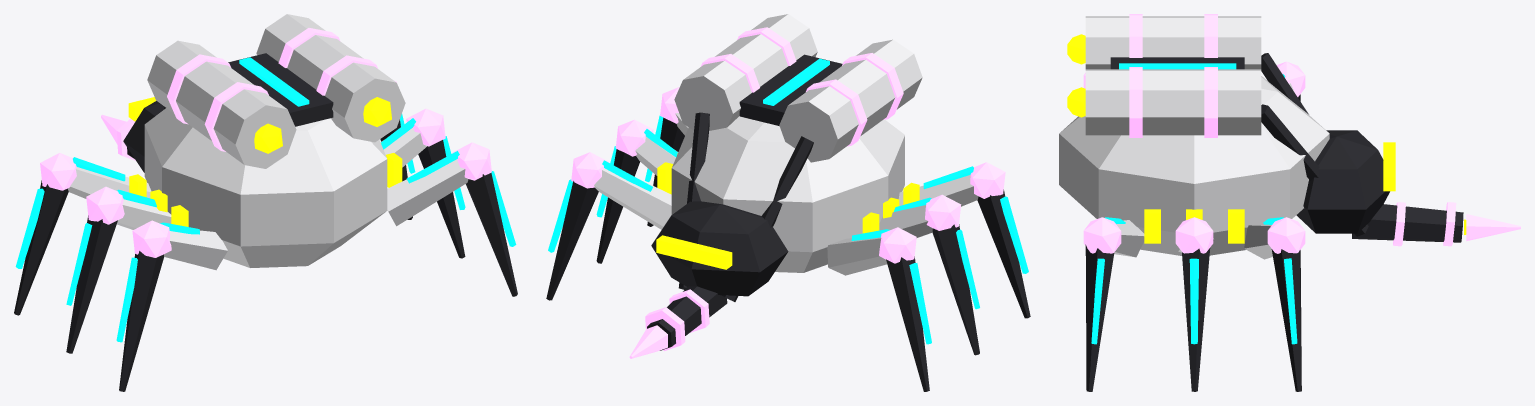
File: Burner.fbx
The picture shows the model from 3 angles, left to right: view 1: azimuth 30°, elevation 25°; view 2: azimuth 150°, elevation 25°; view 3: azimuth 270°, elevation 25°; orthographic projection. The views are drawn at different scales.
Visible parts, largest first — view 1: Burner_Body, Burner_TankR, Burner_TankL, Burner_LegL2_Upper, Burner_ArmorPlate, Burner_LegR2_Lower, Burner_LegR1_Lower, Burner_LegL2_Lower, Burner_LegR0_Lower, Burner_LegR2_Upper, Burner_LegL1_Lower, Burner_LegR2_Knee (+21 smaller); view 2: Burner_Body, Burner_TankR, Burner_Head, Burner_TankL, Burner_ArmorPlate, Burner_LegL0_Upper, Burner_LegR0_Lower, Burner_LegR1_Lower, Burner_LegL0_Lower, Burner_LegR2_Lower, Burner_LegR0_Upper, Burner_Nozzle (+27 smaller); view 3: Burner_Body, Burner_TankL, Burner_TankR, Burner_Head, Burner_Nozzle, Burner_LegL2_Lower, Burner_LegL0_Lower, Burner_LegL1_Lower, Burner_HoseL, Burner_LegL0_Knee, Burner_LegL1_Knee, Burner_LegL2_Knee (+21 smaller).
Boxes of the visible parts, bbox=[...] form: Burner_Body: bbox=[144, 108, 387, 267]; Burner_TankR: bbox=[147, 40, 296, 168]; Burner_TankL: bbox=[256, 14, 405, 142]; Burner_LegL2_Upper: bbox=[387, 159, 468, 226]; Burner_ArmorPlate: bbox=[228, 53, 333, 126]; Burner_LegR2_Lower: bbox=[119, 251, 163, 391]; Burner_LegR1_Lower: bbox=[66, 215, 117, 353]; Burner_LegL2_Lower: bbox=[466, 173, 517, 296]; Burner_LegR0_Lower: bbox=[14, 180, 68, 315]; Burner_LegR2_Upper: bbox=[164, 230, 227, 270]; Burner_LegL1_Lower: bbox=[418, 140, 465, 258]; Burner_LegR2_Knee: bbox=[132, 220, 171, 257]; Burner_Body: bbox=[671, 116, 904, 272]; Burner_TankR: bbox=[779, 39, 922, 162]; Burner_Head: bbox=[651, 201, 788, 296]; Burner_TankL: bbox=[674, 14, 817, 130]; Burner_ArmorPlate: bbox=[739, 54, 842, 125]; Burner_LegL0_Upper: bbox=[594, 168, 671, 229]; Burner_LegR0_Lower: bbox=[886, 256, 929, 391]; Burner_LegR1_Lower: bbox=[932, 224, 979, 355]; Burner_LegL0_Lower: bbox=[546, 181, 598, 300]; Burner_LegR2_Lower: bbox=[977, 189, 1030, 318]; Burner_LegR0_Upper: bbox=[827, 237, 887, 275]; Burner_Nozzle: bbox=[647, 286, 727, 350]; Burner_Body: bbox=[1059, 76, 1329, 255]; Burner_TankL: bbox=[1085, 69, 1261, 135]; Burner_TankR: bbox=[1085, 16, 1261, 69]; Burner_Head: bbox=[1296, 130, 1389, 233]; Burner_Nozzle: bbox=[1352, 204, 1463, 242]; Burner_LegL2_Lower: bbox=[1085, 244, 1114, 391]; Burner_LegL0_Lower: bbox=[1271, 249, 1301, 391]; Burner_LegL1_Lower: bbox=[1182, 248, 1210, 391]; Burner_HoseL: bbox=[1261, 104, 1368, 236]; Burner_LegL0_Knee: bbox=[1267, 217, 1305, 253]; Burner_LegL1_Knee: bbox=[1175, 217, 1213, 253]; Burner_LegL2_Knee: bbox=[1083, 217, 1121, 253].
Size of the model in its own units: 0.5487 by 0.3361 by 0.5517.
